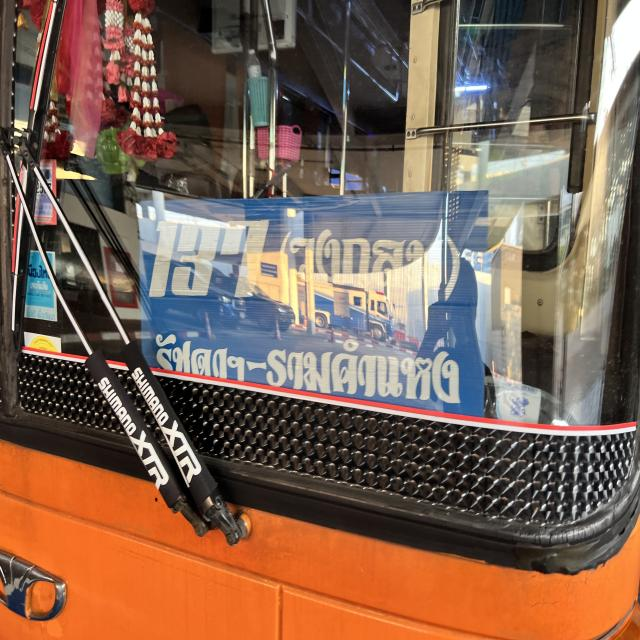BMTA-bus: (0, 0, 640, 640)
Destination-Sign-Normal: (140, 190, 489, 416)
